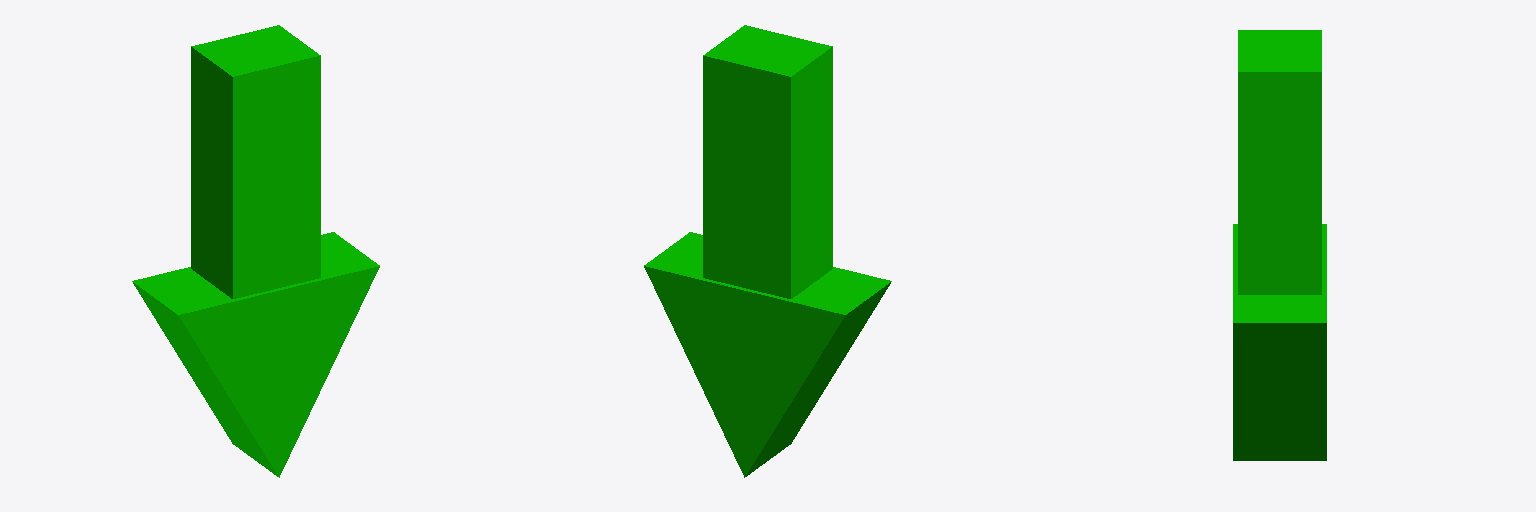
File: down.obj
The picture shows the model from 3 angles: view 1: azimuth 30°, elevation 25°; view 2: azimuth 150°, elevation 25°; view 3: azimuth 270°, elevation 25°; orthographic projection.
Parts seen in each view (by area): view 1: Cube_Cube.001; view 2: Cube_Cube.001; view 3: Cube_Cube.001.
Part boxes in pixels (left/top/right/bottom): Cube_Cube.001: left=132, top=25, right=379, bottom=477; Cube_Cube.001: left=644, top=25, right=891, bottom=477; Cube_Cube.001: left=1233, top=30, right=1326, bottom=460.
Bounding box in the file's own units: 0.2943 × 0.5709 × 0.1176.